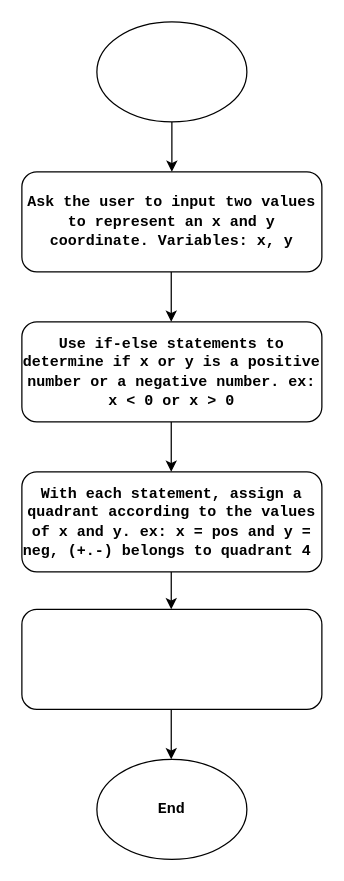
This 344x881 diagram has some shape labels left out. The centre of each missing label's shape, as x and y in pixels:
"Print the quadrant the points belong to." goes at pixel 171 658.
"Start" goes at pixel 171 71.
